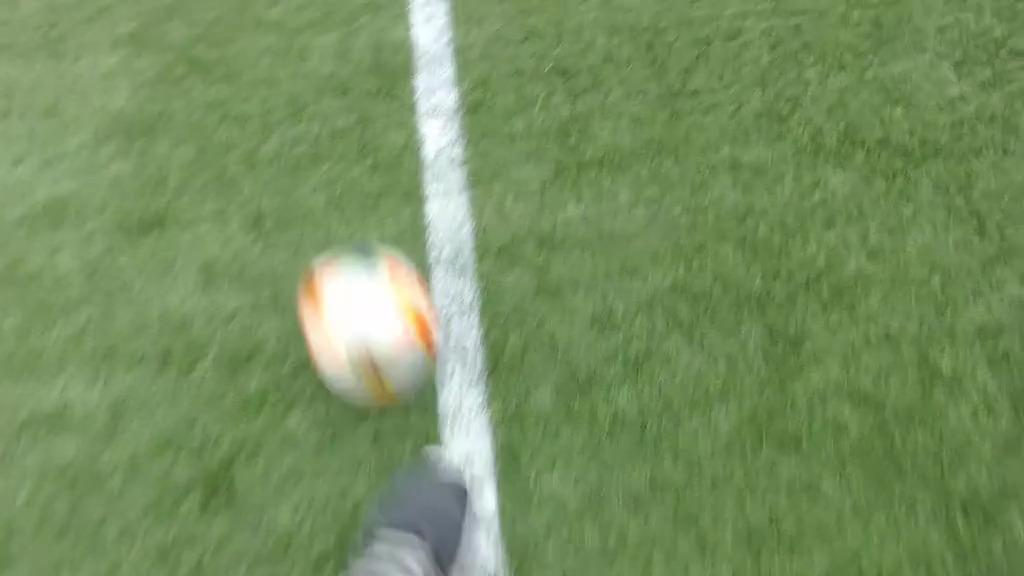ball: (296, 243, 434, 400)
